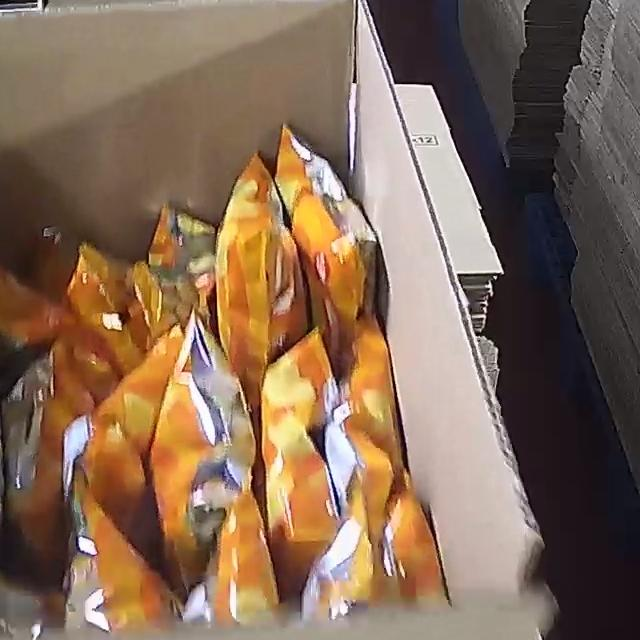cheese: (0, 121, 452, 638)
